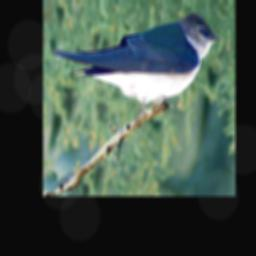Swallow: (52, 12, 223, 121)
